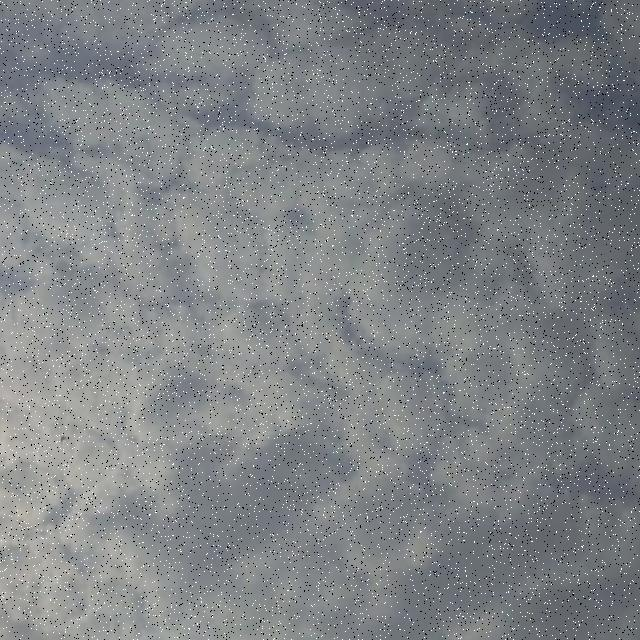Ac: (13, 46, 614, 552)
